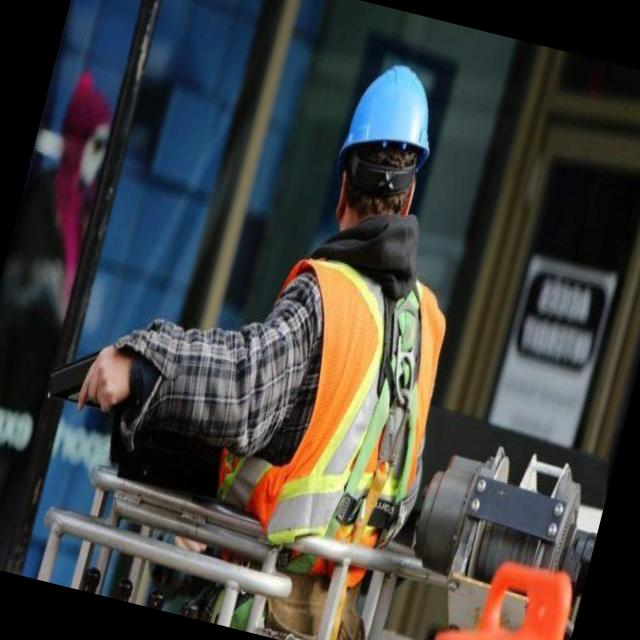helmet: (334, 50, 458, 175)
vest: (217, 244, 462, 566)
